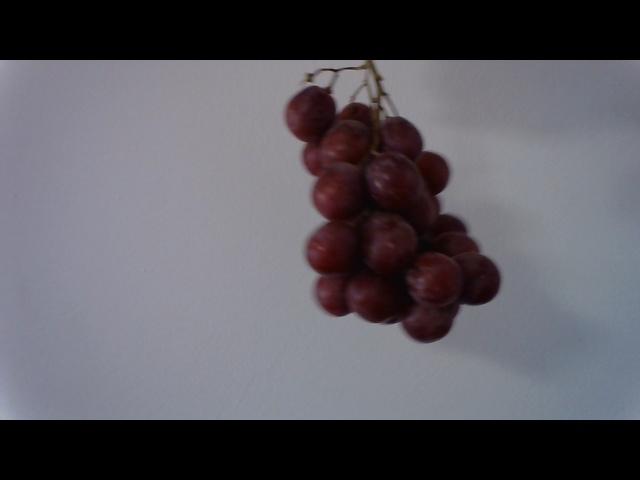grape: (280, 92, 507, 347)
